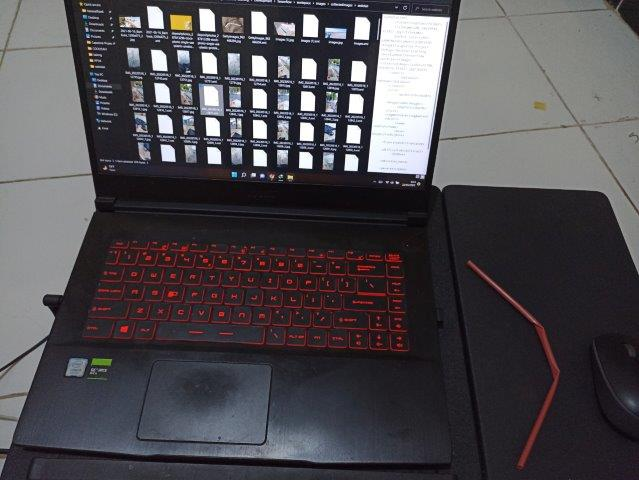sedotan: (467, 261, 559, 466)
